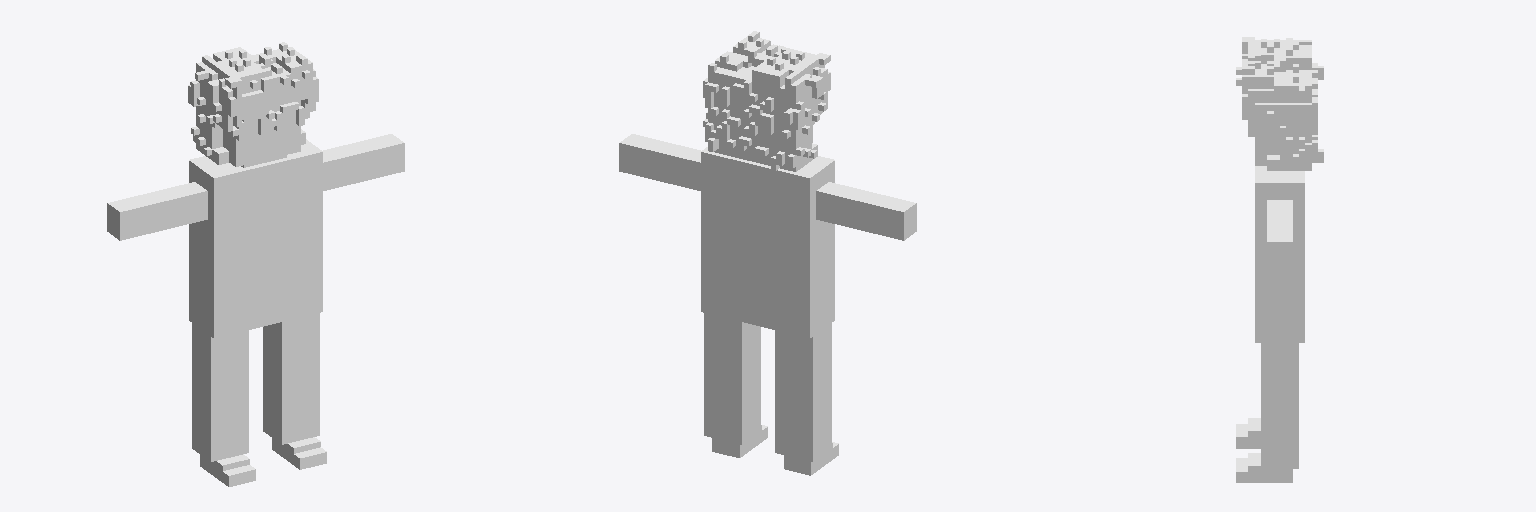
Rendered from joker_completo.obj.
3 renders of one model, left to right at view 1: azimuth 30°, elevation 25°; view 2: azimuth 150°, elevation 25°; view 3: azimuth 270°, elevation 25°, orthographic.
Visible parts, largest first — view 1: object 1; view 2: object 1; view 3: object 1.
Part boxes in pixels (bbox=[...]): object 1: bbox=[107, 42, 404, 486]; object 1: bbox=[619, 31, 916, 475]; object 1: bbox=[1236, 37, 1323, 482].
Size of the model in its own units: 5.2 by 7.1 by 1.4.